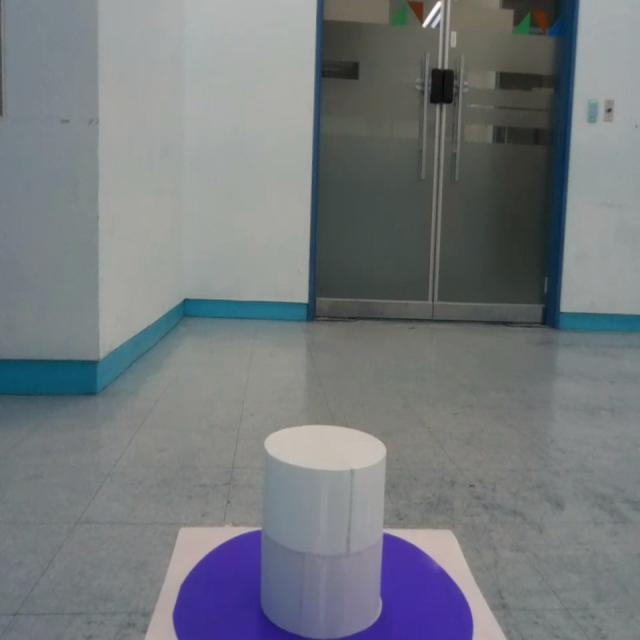cylinder: (260, 424, 388, 637)
